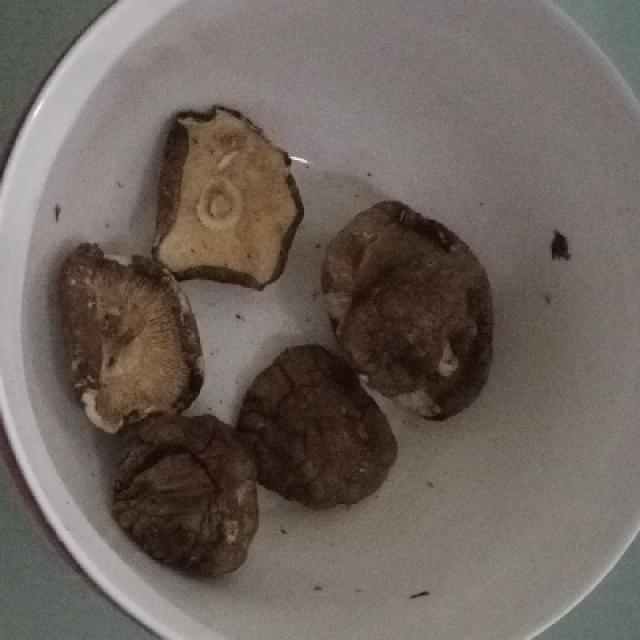Lentinus edodes: (328, 203, 491, 415), (156, 104, 302, 294), (60, 242, 202, 431), (236, 347, 395, 514), (118, 418, 259, 581)
